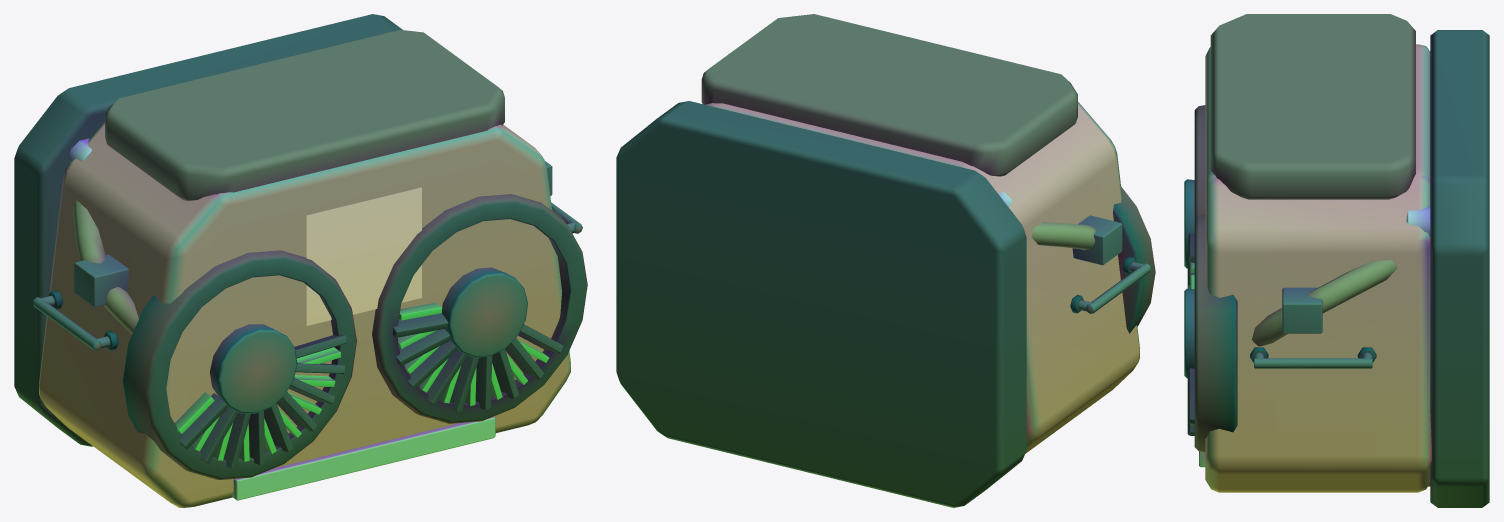
Rendered from gen_reactor.glb.
3 views of the same model, side by side, from view 1: azimuth 30°, elevation 25°; view 2: azimuth 150°, elevation 25°; view 3: azimuth 270°, elevation 25° (orthographic). The views are drawn at different scales.
Parts seen in each view (by area): view 1: Body__armor, Body__dark, Body__armor_oxide, Body__gunmetal, Body__decal, Body__hazard, Body__emit_green, Body__copper; view 2: Body__dark, Body__armor_oxide, Body__armor, Body__gunmetal, Body__copper; view 3: Body__armor, Body__dark, Body__armor_oxide, Body__gunmetal, Body__copper, Body__chrome.
Boxes of the visible parts, x1,y1,x2,y2 form: Body__armor: (39,121,570,507); Body__dark: (14,14,587,479); Body__armor_oxide: (105,30,504,200); Body__gunmetal: (32,161,582,413); Body__decal: (306,187,421,325); Body__hazard: (232,416,495,500); Body__emit_green: (174,302,549,461); Body__copper: (73,201,138,334); Body__dark: (616,101,1155,507); Body__armor_oxide: (701,14,1077,176); Body__armor: (705,102,1139,453); Body__gunmetal: (1072,215,1150,313); Body__copper: (1031,222,1095,250); Body__armor: (1205,44,1431,492); Body__dark: (1187,30,1489,507); Body__armor_oxide: (1210,14,1415,199); Body__gunmetal: (1184,179,1372,378); Body__copper: (1252,260,1397,346); Body__chrome: (1406,51,1430,486).
Bounding box in the file's own units: 1.02 × 0.71 × 0.5661.
